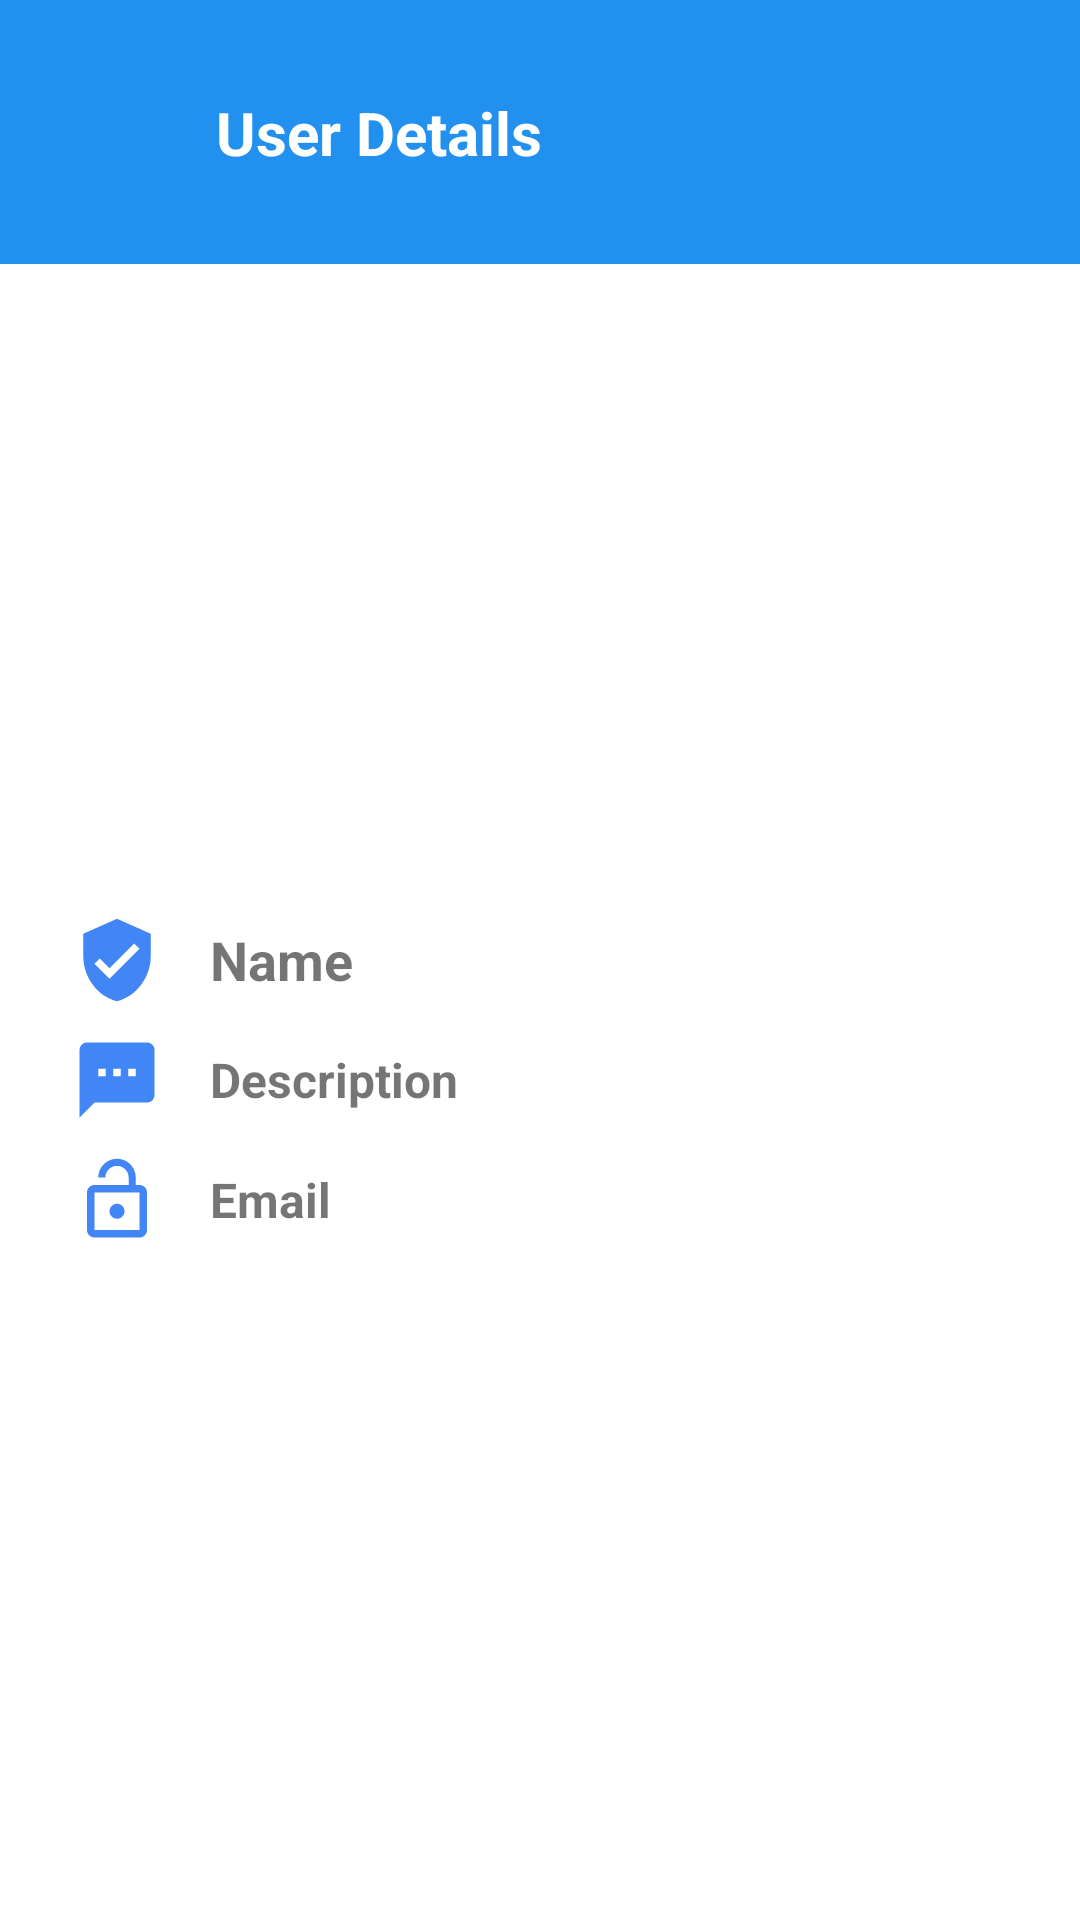

Screen size 1080 × 1920. Icon name, then its center in pixels as [x,y]:
lock: [117,1198]
textsms: [117,1080]
verified user: [117,960]
